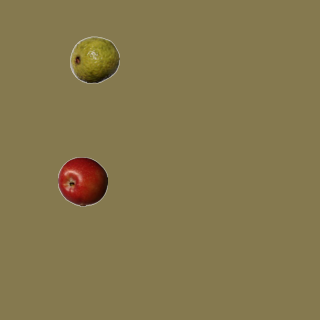Apple Braeburn: (57, 156, 107, 206)
Guava: (69, 34, 119, 84)
